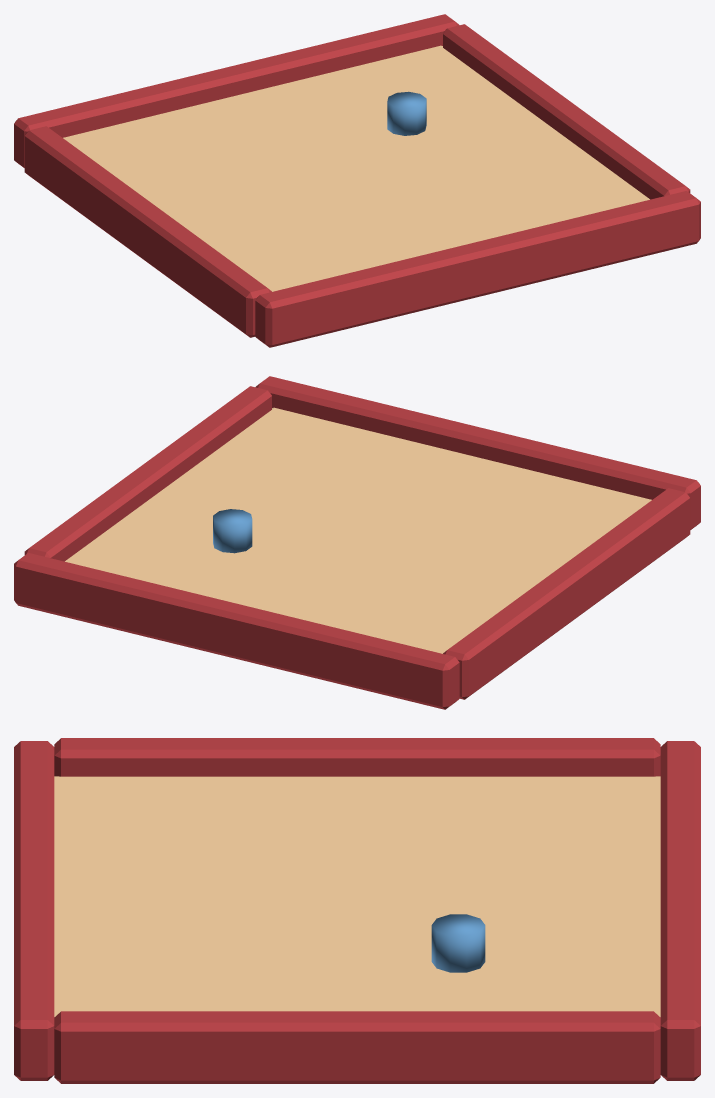
Rendered from sandbox.glb.
The picture shows the model from 3 angles, top to bottom: view 1: azimuth 30°, elevation 25°; view 2: azimuth 150°, elevation 25°; view 3: azimuth 270°, elevation 25°; orthographic projection. The views are drawn at different scales.
Visible parts, largest first — view 1: sandbox, sandbox_board1, sandbox_board3, sandbox_board0, sandbox_board2, sandbox_bucket; view 2: sandbox, sandbox_board0, sandbox_board3, sandbox_board1, sandbox_board2, sandbox_bucket; view 3: sandbox, sandbox_board2, sandbox_board3, sandbox_board0, sandbox_board1, sandbox_bucket.
Part boxes in pixels (box(x1,y1,x2,y2)): sandbox: box(63, 45, 649, 291); sandbox_board1: box(255, 191, 700, 347); sandbox_board3: box(24, 126, 271, 337); sandbox_board0: box(14, 14, 459, 167); sandbox_board2: box(443, 24, 690, 199); sandbox_bucket: box(387, 91, 426, 135); sandbox: box(65, 407, 651, 653); sandbox_board0: box(14, 553, 459, 709); sandbox_board3: box(443, 488, 690, 699); sandbox_board1: box(255, 376, 700, 529); sandbox_board2: box(24, 386, 271, 561); sandbox_bucket: box(213, 509, 252, 553); sandbox: box(54, 776, 660, 1016); sandbox_board2: box(54, 1011, 660, 1083); sandbox_board3: box(54, 738, 660, 776); sandbox_board0: box(660, 741, 700, 1080); sandbox_board1: box(14, 741, 54, 1080); sandbox_bucket: box(431, 914, 485, 972).
Bounding box in the file's own units: 2.04 × 0.24 × 2.04.
